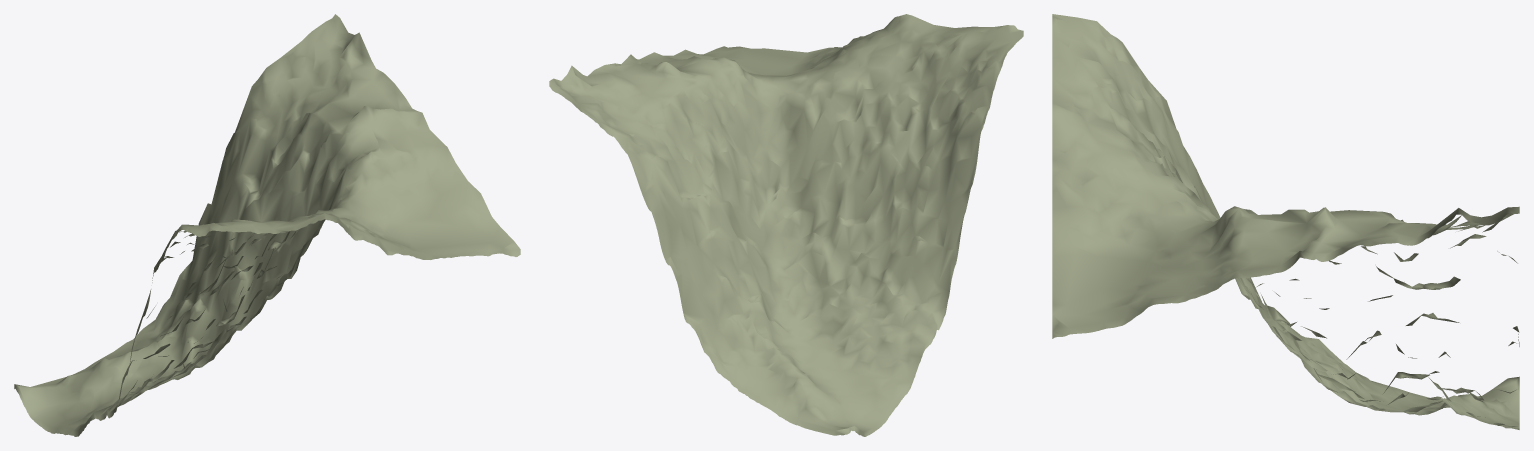
The model's file is terrain_r0_c3_lod1.glb.
3 views of the same model, side by side, from view 1: azimuth 30°, elevation 25°; view 2: azimuth 150°, elevation 25°; view 3: azimuth 270°, elevation 25° (orthographic). The views are drawn at different scales.
Visible parts, largest first — view 1: terrain_r0_c3_lod1; view 2: terrain_r0_c3_lod1; view 3: terrain_r0_c3_lod1.
Boxes of the visible parts, box(x1,y1,x2,y2) form: terrain_r0_c3_lod1: box(14, 14, 520, 436); terrain_r0_c3_lod1: box(549, 14, 1023, 436); terrain_r0_c3_lod1: box(1052, 14, 1519, 429).
Size of the model in its own units: 50 by 46.91 by 50.
